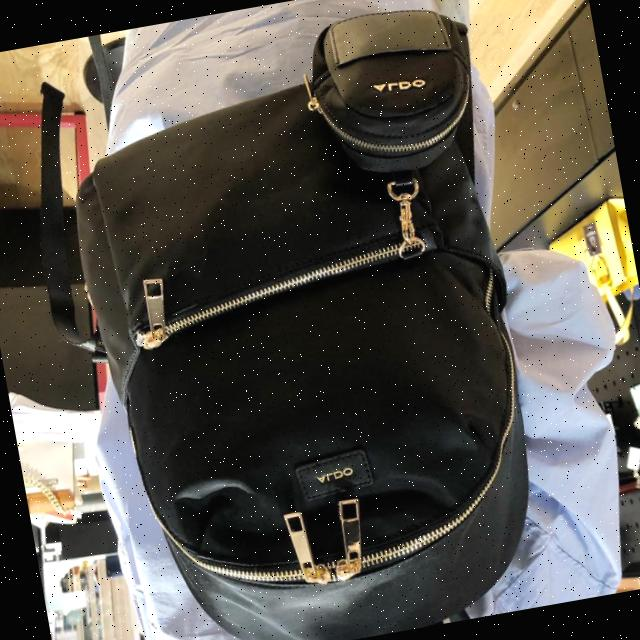handbag: (53, 43, 580, 640)
